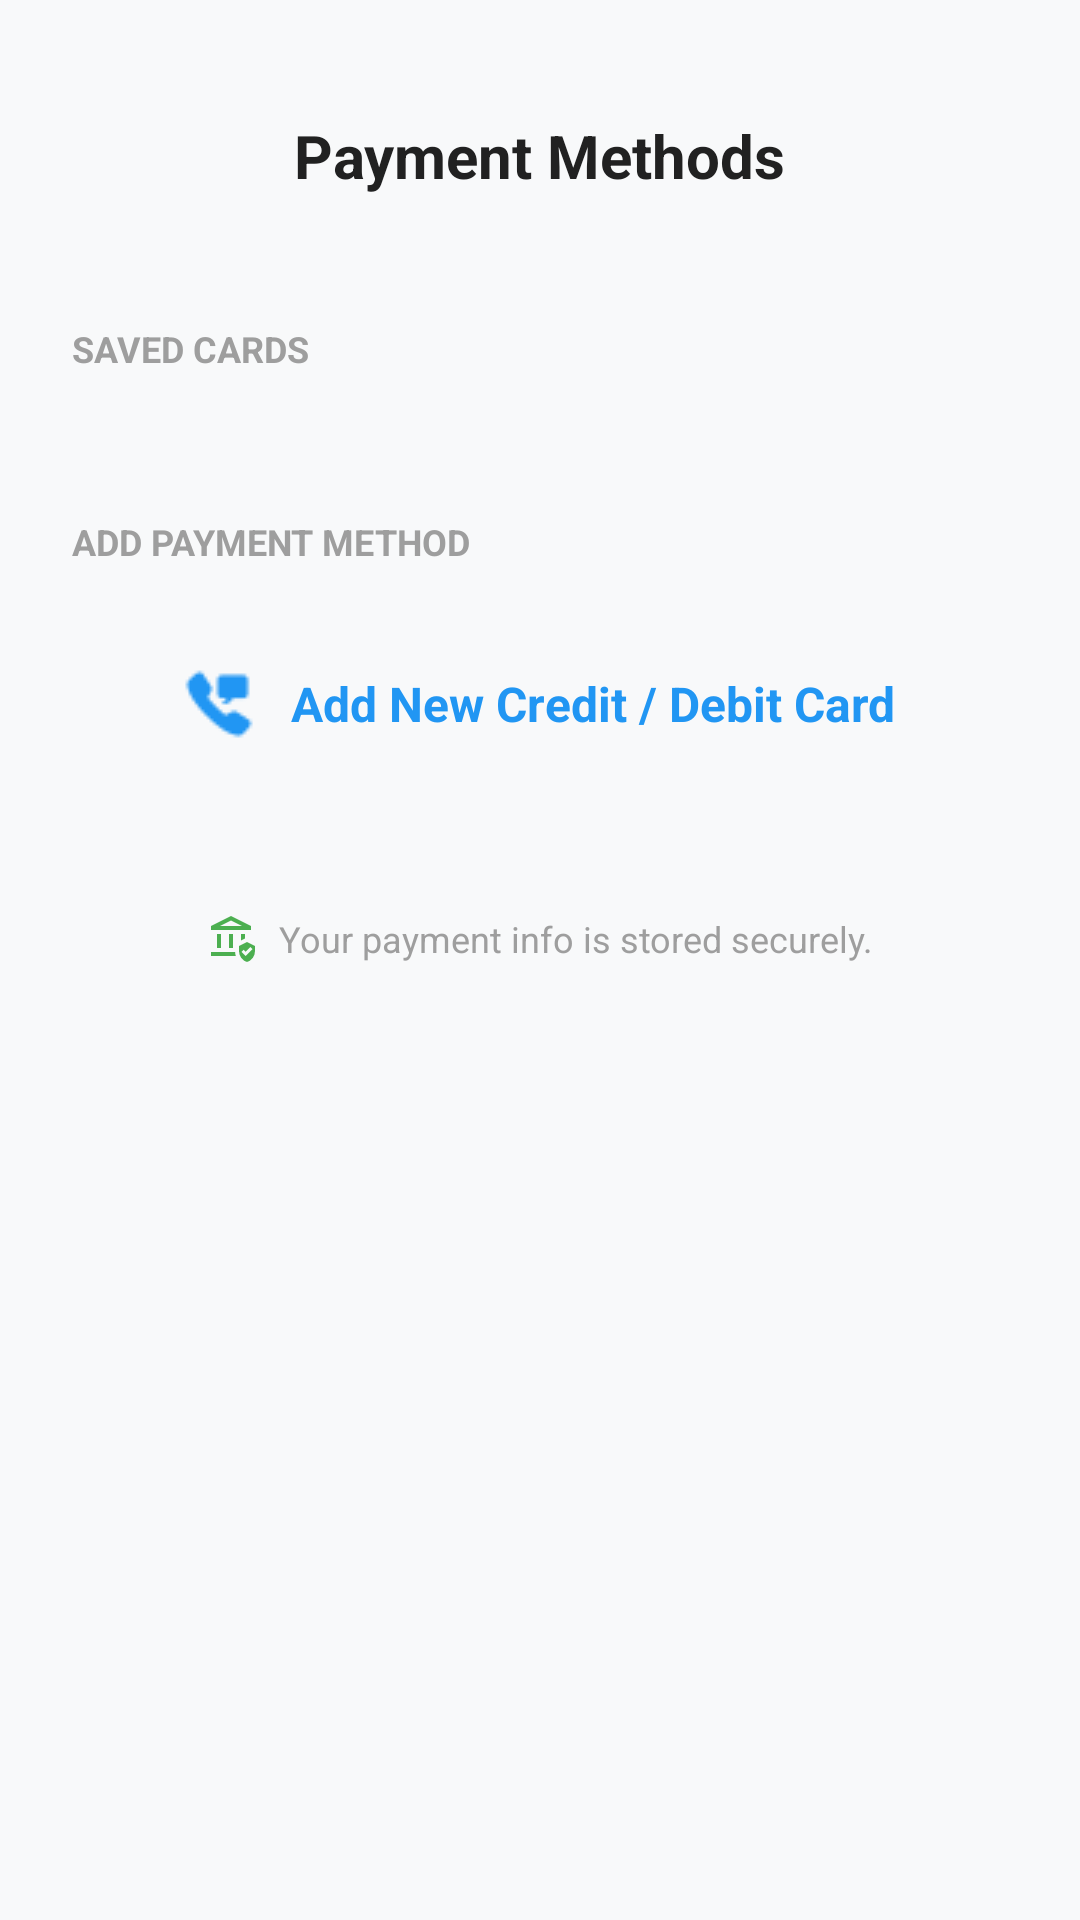

Named icons in this screenshot (1080x1920) and their bounding boxes, BBox(x1, y1, x2, y2):
assured workload: BBox(211, 916, 255, 962)
contact us: BBox(185, 670, 253, 738)
